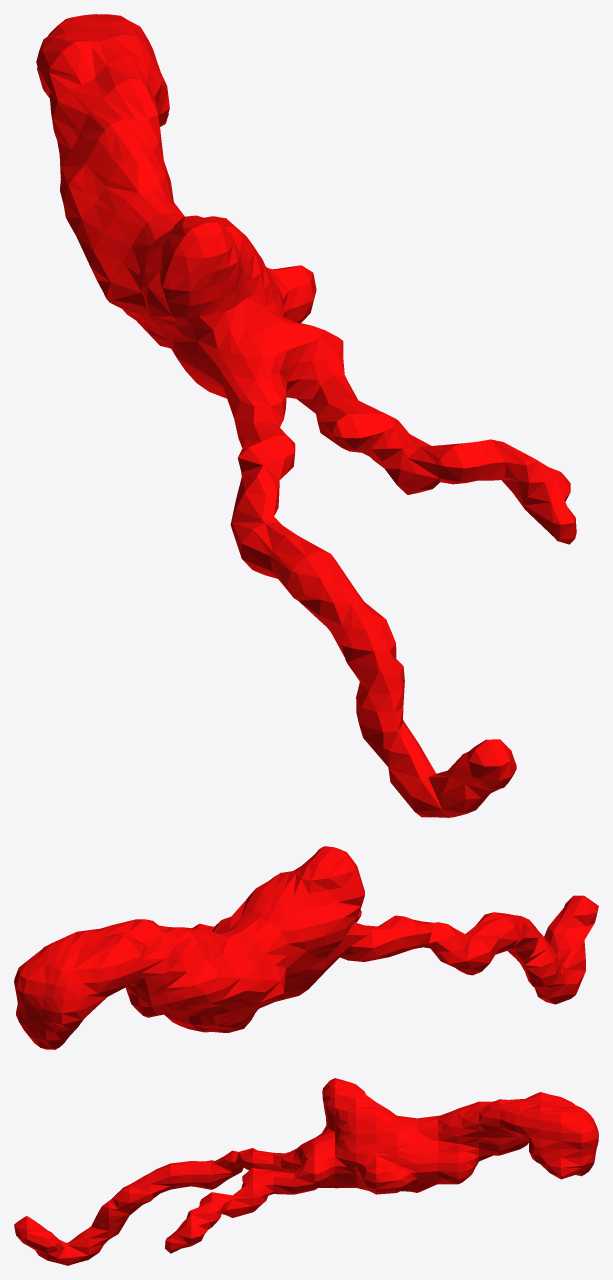
Rendered from wzzE_coarse.dae.
The picture shows the model from 3 angles, top to bottom: view 1: azimuth 30°, elevation 25°; view 2: azimuth 150°, elevation 25°; view 3: azimuth 270°, elevation 25°; orthographic projection. The views are drawn at different scales.
Visible parts, largest first — view 1: wzzE; view 2: wzzE; view 3: wzzE.
Part boxes in pixels (bbox=[...]): wzzE: bbox=[36, 14, 576, 817]; wzzE: bbox=[14, 846, 598, 1049]; wzzE: bbox=[14, 1078, 598, 1265].
Bounding box in the file's own units: 68.84 × 85.61 × 226.
